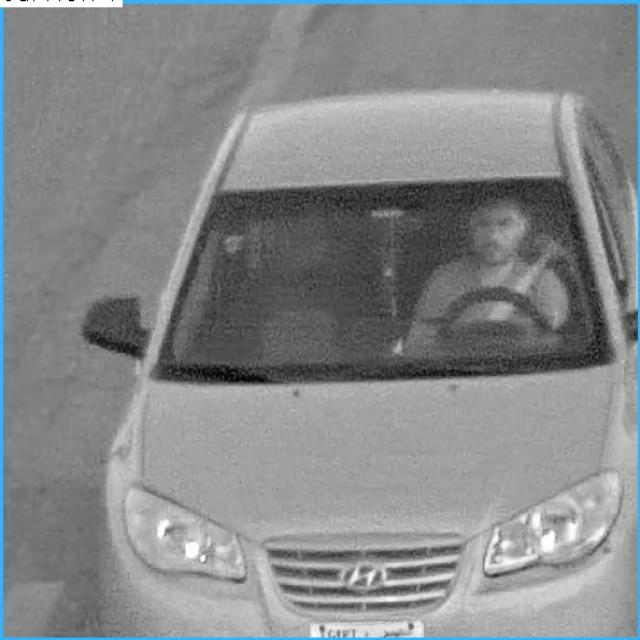windshield: (165, 190, 608, 368)
